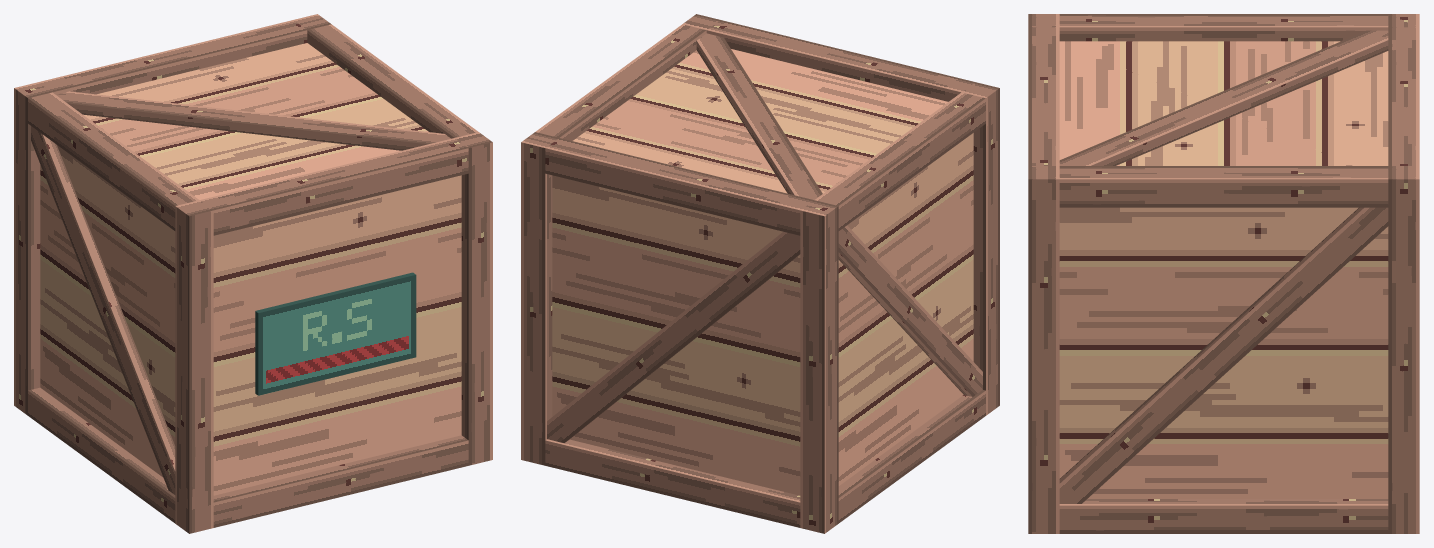
The model's file is WoodenCrate.fbx.
3 views of the same model, side by side, from view 1: azimuth 30°, elevation 25°; view 2: azimuth 150°, elevation 25°; view 3: azimuth 270°, elevation 25° (orthographic). The views are drawn at different scales.
Visible parts, largest first — view 1: WoodenCrate; view 2: WoodenCrate; view 3: WoodenCrate.
Part boxes in pixels (x1=…): WoodenCrate: x1=14, y1=14, x2=492, y2=533; WoodenCrate: x1=521, y1=14, x2=999, y2=533; WoodenCrate: x1=1028, y1=14, x2=1419, y2=533.
Size of the model in its own units: 1 by 1 by 1.
Materials: 3 (3 with a texture image).
